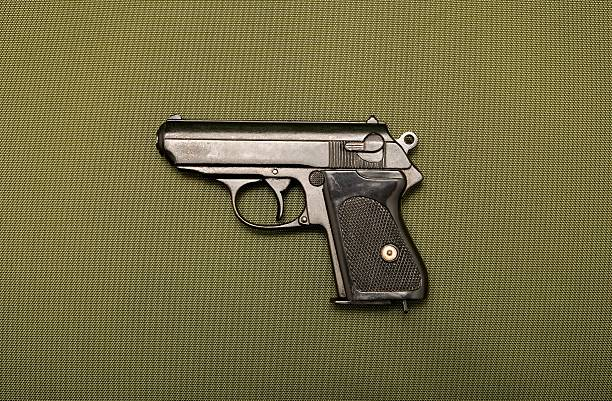pistol: (152, 112, 440, 318)
